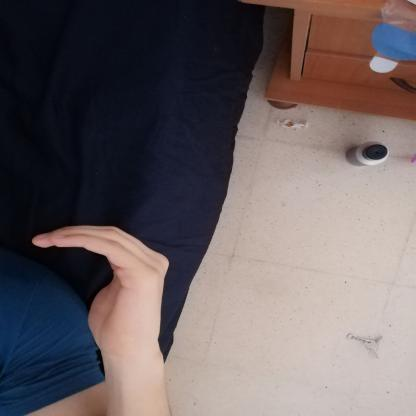HAA: (15, 216, 182, 357)
